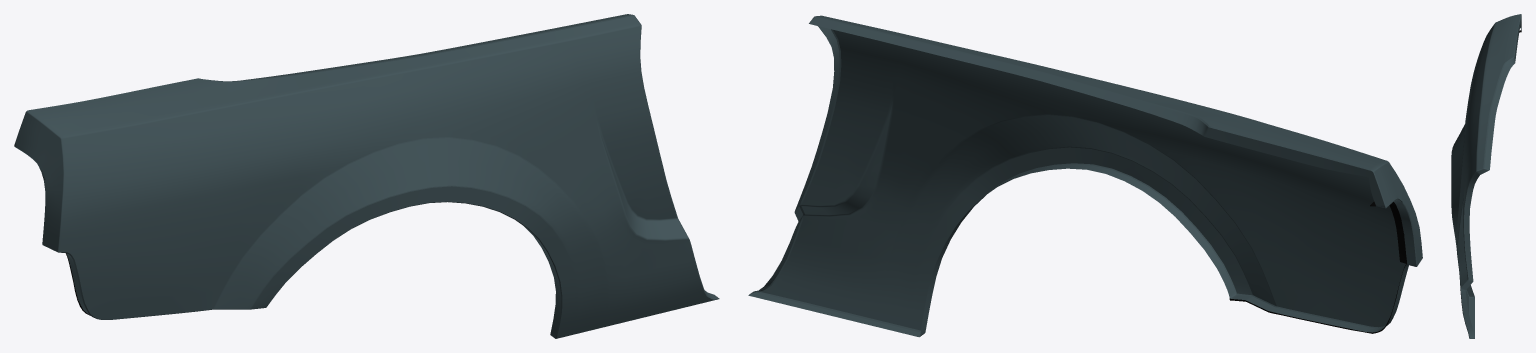
The picture shows the model from 3 angles, left to right: view 1: azimuth 30°, elevation 25°; view 2: azimuth 150°, elevation 25°; view 3: azimuth 270°, elevation 25°; orthographic projection. The views are drawn at different scales.
Visible parts, largest first — view 1: P222_15_381B_R_1_DaS_P222_15_381B_R, P222_15_381B_R_1_DaS_P222_15_381B_R_E; view 2: P222_15_381B_R_1_DaS_P222_15_381B_R, P222_15_381B_R_1_DaS_P222_15_381B_R_E, P222_15_381B_R_P222_15_381B_R_2_D; view 3: P222_15_381B_R_1_DaS_P222_15_381B_R, P222_15_381B_R_1_DaS_P222_15_381B_R_E.
Part boxes in pixels (x1,y1,x2,y2): P222_15_381B_R_1_DaS_P222_15_381B_R: (14, 14, 719, 338); P222_15_381B_R_1_DaS_P222_15_381B_R_E: (14, 15, 718, 338); P222_15_381B_R_1_DaS_P222_15_381B_R: (748, 15, 1422, 337); P222_15_381B_R_1_DaS_P222_15_381B_R_E: (756, 16, 1417, 332); P222_15_381B_R_P222_15_381B_R_2_D: (1229, 201, 1406, 333); P222_15_381B_R_1_DaS_P222_15_381B_R: (1451, 14, 1521, 338); P222_15_381B_R_1_DaS_P222_15_381B_R_E: (1451, 14, 1521, 338).
Bounding box in the file's own units: 172 × 77.48 × 30.64.
